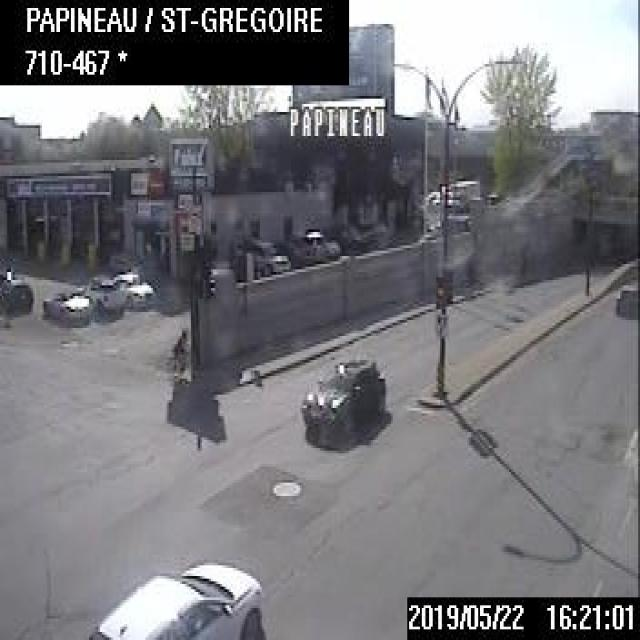cyclist: (158, 324, 200, 384)
vehicle: (89, 558, 260, 638), (298, 354, 384, 442), (40, 282, 93, 328), (82, 273, 126, 322), (239, 237, 288, 274), (112, 270, 153, 312), (0, 272, 34, 321), (302, 230, 338, 260), (613, 278, 638, 318)
